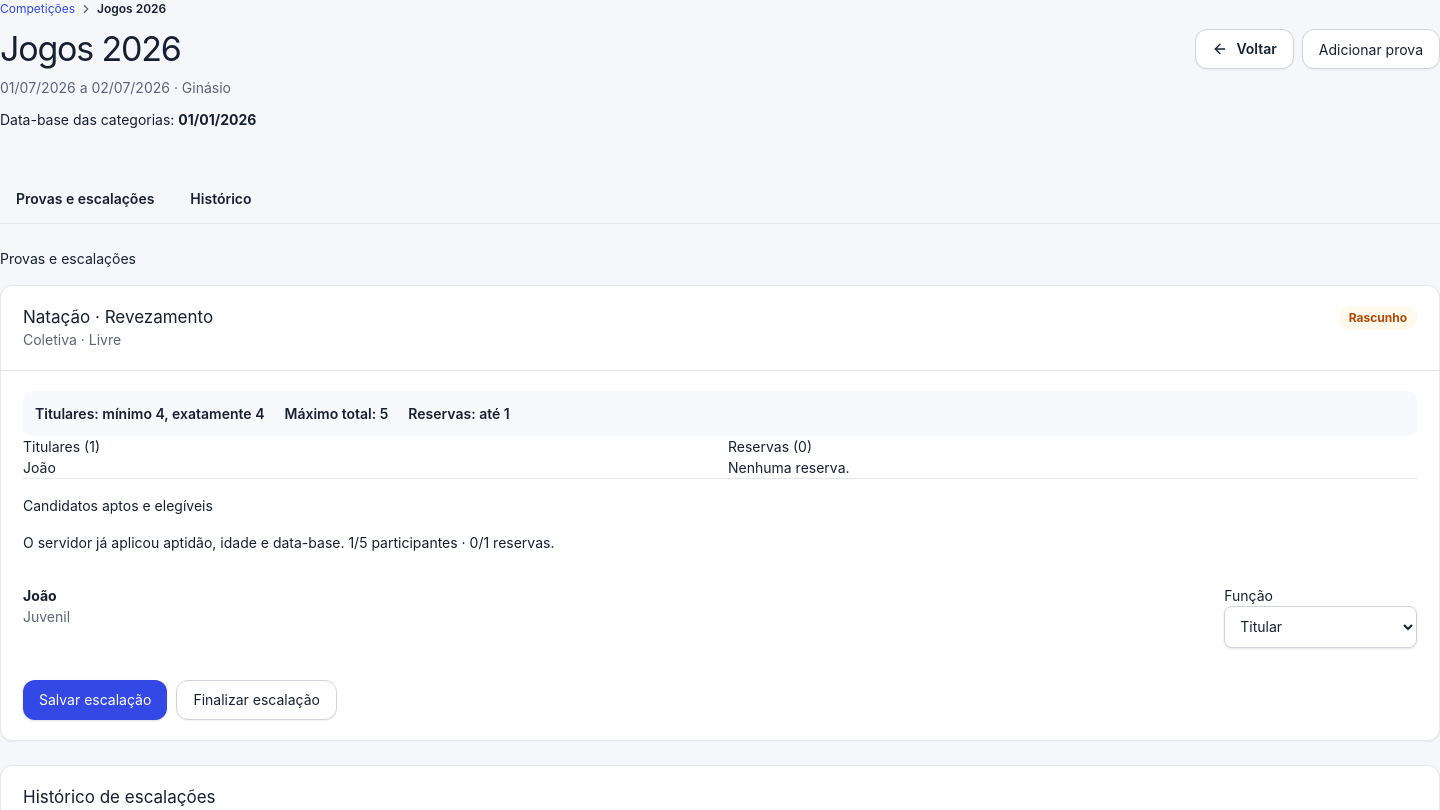
Test: Competições › mostra regras, candidatos do servidor e confirmação de finalização
The image size is (1440, 810).
Expected: the heading "Jogos 2026" is shown, [0,28,181,69]
Expected: the text "Máximo total: 5" is shown, [284,403,400,424]
Click the button "Finalizar escalação" at (257, 700), box [176,680,337,720]
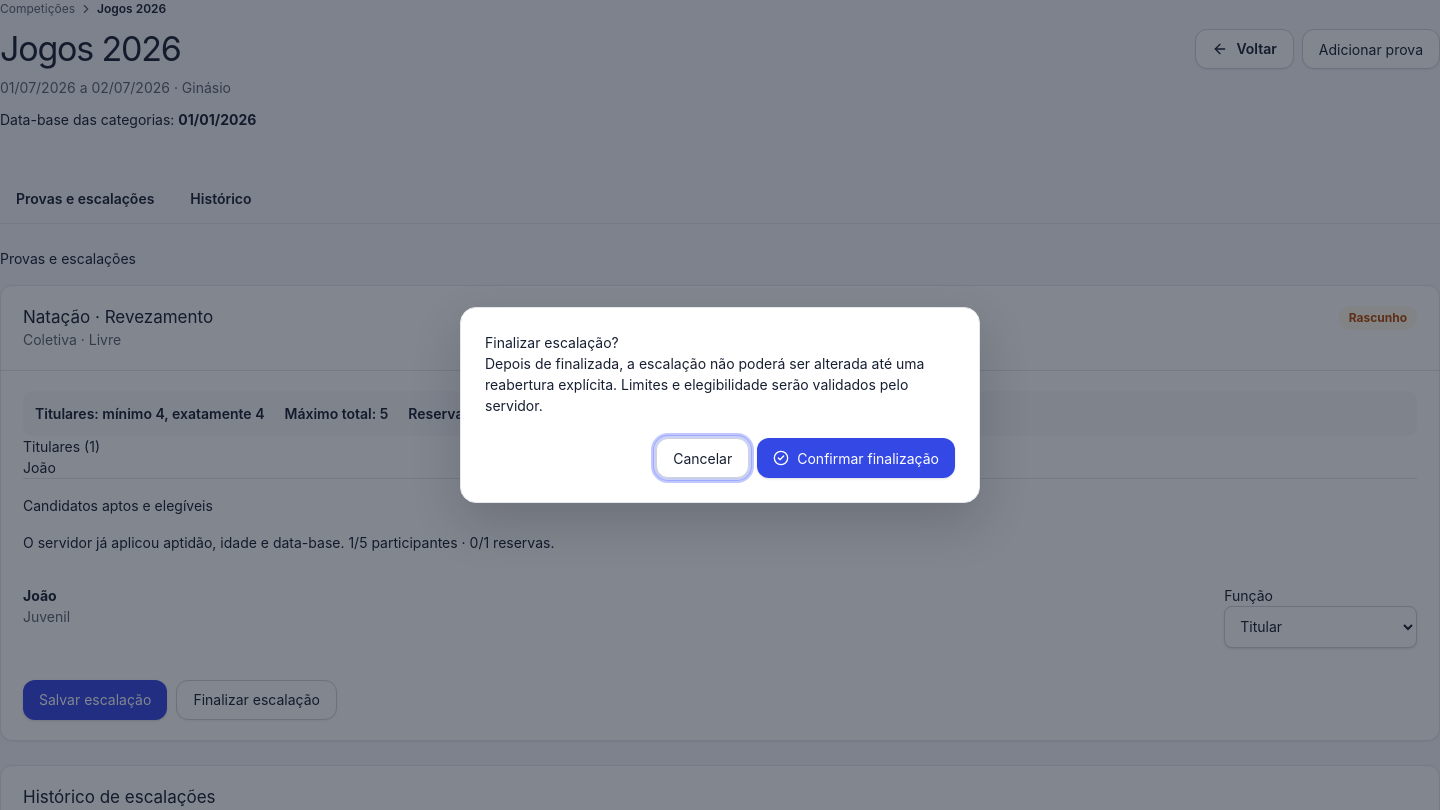
Expected: the heading "Finalizar escalação?" is shown, [485,334,619,351]
Expected: the text "não poderá ser alterada" is shown, [485,355,924,414]
